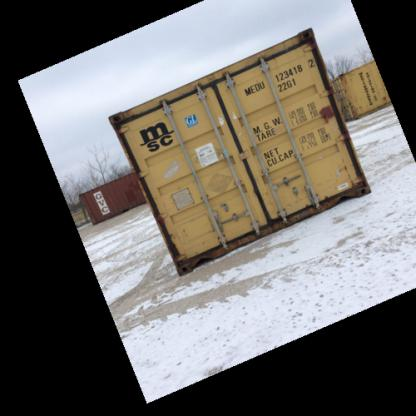Damage: (174, 229, 210, 277), (335, 144, 372, 189), (105, 107, 154, 138), (267, 28, 322, 52), (315, 95, 337, 125)
